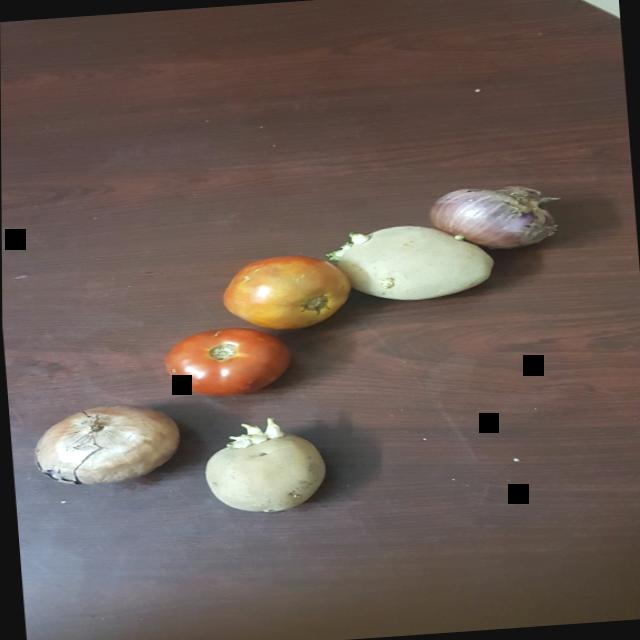onion: (29, 392, 186, 489), (425, 159, 574, 256)
potato: (323, 206, 500, 318), (195, 413, 342, 521)
tomato: (153, 317, 300, 403), (219, 248, 357, 335)
